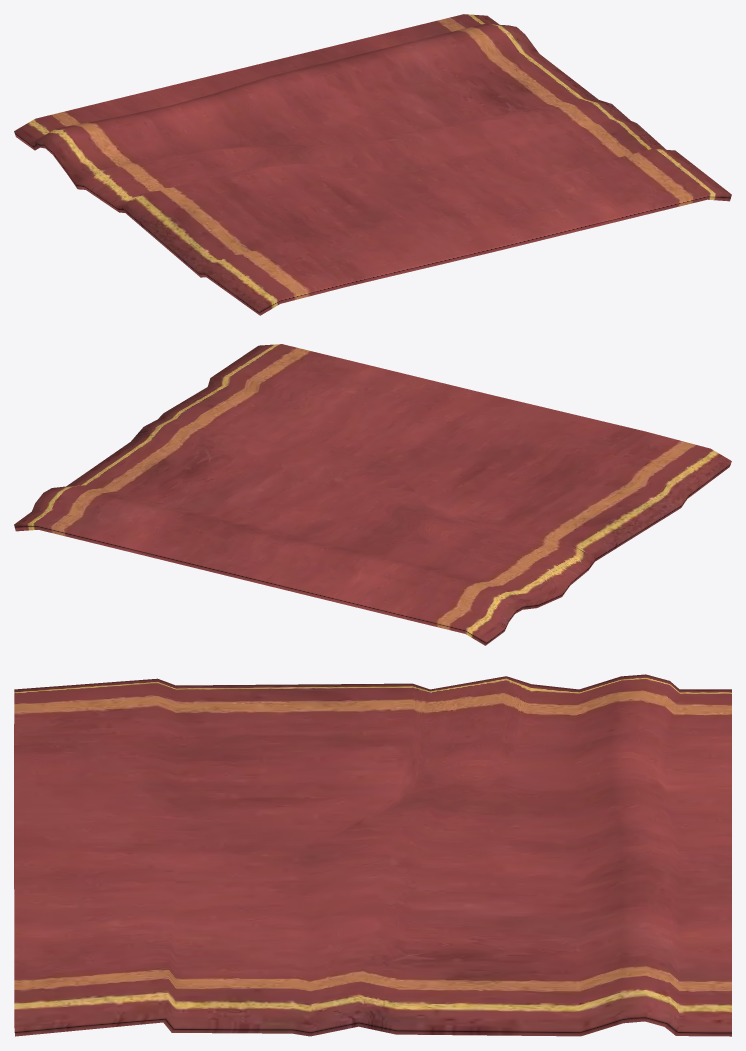
3 renders of one model, top to bottom at view 1: azimuth 30°, elevation 25°; view 2: azimuth 150°, elevation 25°; view 3: azimuth 270°, elevation 25°, orthographic. The views are drawn at different scales.
Parts seen in each view (by area): view 1: SM_DR_Rug_A_03_01_LOD0; view 2: SM_DR_Rug_A_03_01_LOD0; view 3: SM_DR_Rug_A_03_01_LOD0.
Boxes of the visible parts, bbox=[...] form: SM_DR_Rug_A_03_01_LOD0: bbox=[14, 14, 731, 315]; SM_DR_Rug_A_03_01_LOD0: bbox=[14, 344, 731, 645]; SM_DR_Rug_A_03_01_LOD0: bbox=[14, 674, 731, 1036].
Size of the model in its own units: 2.27 by 0.1079 by 2.
Materials: 1 (1 with a texture image).
